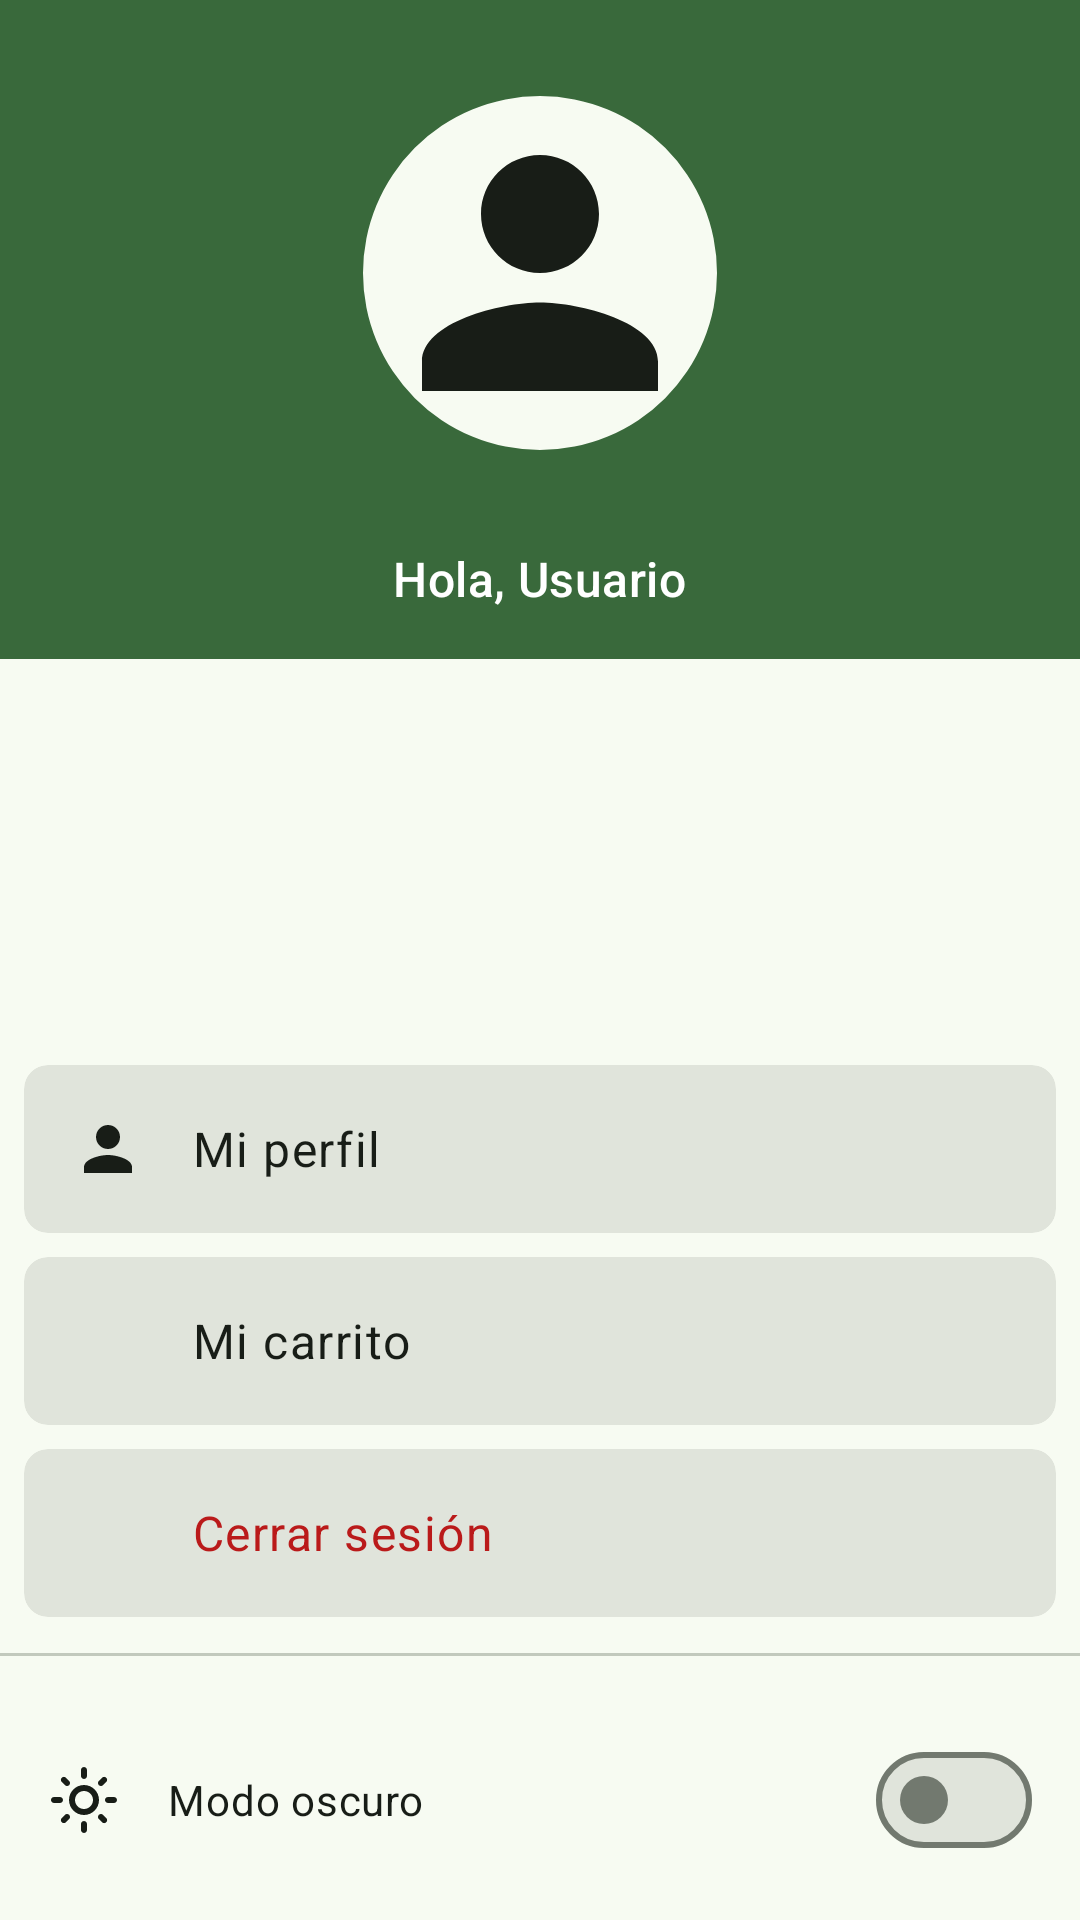

Icon bounding boxes for this 1080px×1920px phone screenshot, format (x1, y1, x2, y2):
Icono de modo de tema: (51, 1767, 117, 1833)
Imagen de perfil: (363, 96, 717, 450)
